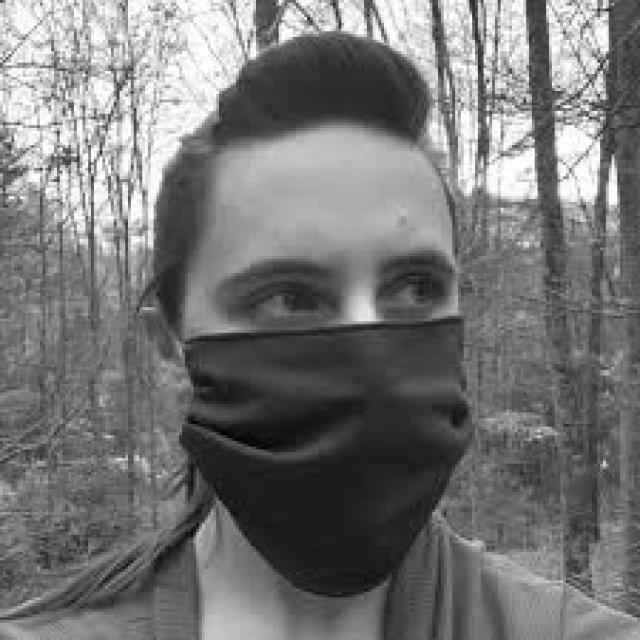fake: (175, 318, 475, 595)
real: (182, 135, 465, 594)
